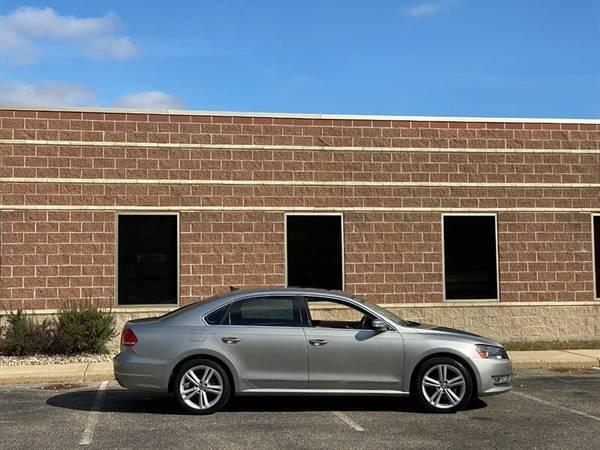Front_Bumper: (466, 359, 515, 395)
Front_Fender: (400, 330, 495, 391)
Front_Right_Door: (303, 326, 405, 395)
Front_Right_Window: (296, 295, 394, 332)
Rear_Bumper: (112, 344, 179, 393)
Rear_Fender: (127, 300, 228, 360)
Rear_Right_Door: (215, 324, 308, 392)
Rear_Right_Window: (219, 296, 302, 330)
Right_Headlight: (476, 344, 511, 362)
Right_Taillight: (119, 326, 137, 346)
Roof: (145, 289, 401, 333)
Wheel: (172, 357, 230, 415), (415, 355, 474, 410)
